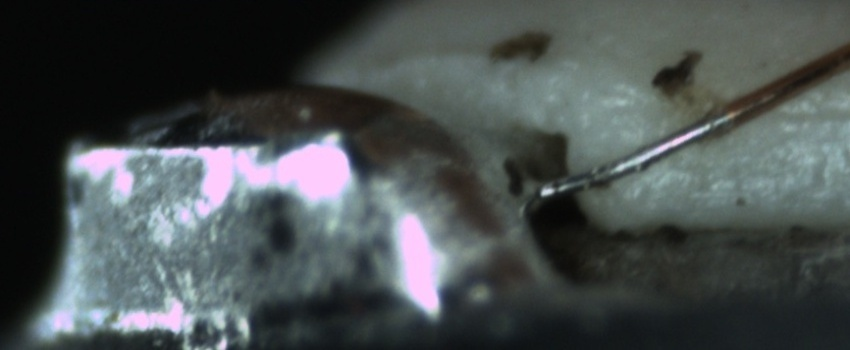DL: (770, 77, 849, 150)
TS: (539, 110, 725, 199)
